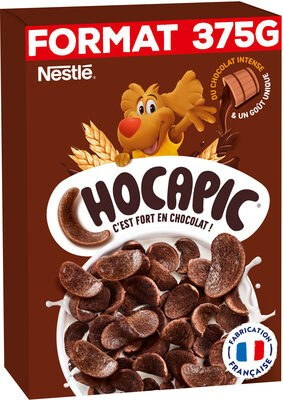Chocapic: (14, 20, 269, 380)
